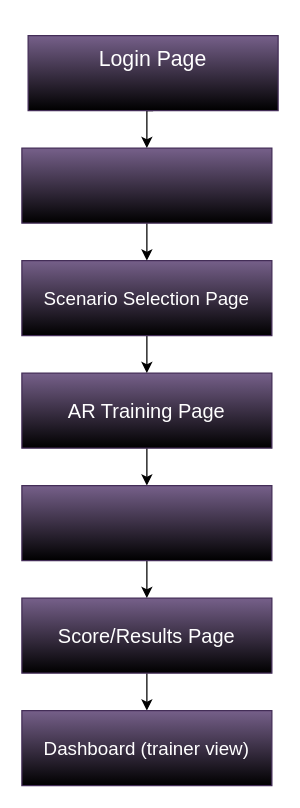
Image size: 300x808. Some labels were removed from this diagram. The box of each missing label's shape, as (x1, y1, x2, y2) in pixels:
Make Decisions (tap buttons): (21, 484, 272, 561)
Register (if new user): (21, 147, 272, 223)
